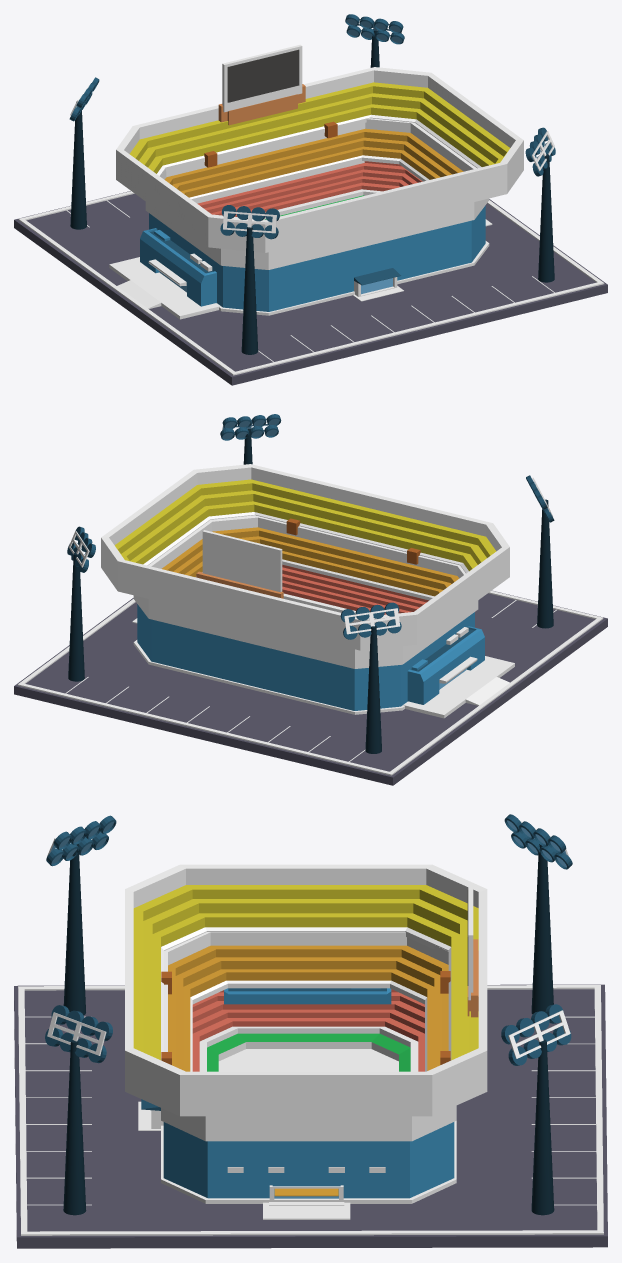
File: stadium.fbx
3 renders of one model, top to bottom at view 1: azimuth 30°, elevation 25°; view 2: azimuth 150°, elevation 25°; view 3: azimuth 270°, elevation 25°, orthographic. The views are drawn at different scales.
Parts seen in each view (by area): view 1: ground, floor_2, floor_0, floor_1, display, gate, light_0, light_3, light_1, light_2; view 2: ground, floor_2, floor_0, floor_1, display, gate, light_1, light_2, light_0, light_3; view 3: ground, floor_2, floor_0, floor_1, light_2, light_3, light_0, light_1, gate, display.
Part boxes in pixels (<box>): ground: <box>14,191,607,385</box>; floor_2: <box>116,67,523,252</box>; floor_0: <box>109,161,492,319</box>; floor_1: <box>145,118,489,269</box>; display: <box>222,44,302,125</box>; gate: <box>140,228,216,306</box>; light_0: <box>220,205,279,354</box>; light_3: <box>525,127,555,282</box>; light_1: <box>69,77,99,229</box>; light_2: <box>345,14,404,67</box>; ground: <box>14,590,607,785</box>; floor_2: <box>101,464,509,650</box>; floor_0: <box>132,564,514,718</box>; floor_1: <box>133,515,478,668</box>; display: <box>202,530,282,592</box>; gate: <box>407,626,484,704</box>; light_1: <box>340,602,401,753</box>; light_2: <box>67,526,95,681</box>; light_0: <box>526,475,554,628</box>; light_3: <box>220,414,281,464</box>; ground: <box>14,984,607,1248</box>; floor_2: <box>125,864,487,1116</box>; floor_0: <box>138,989,456,1219</box>; floor_1: <box>161,932,456,1141</box>; light_2: <box>501,1004,571,1215</box>; light_3: <box>45,1005,112,1215</box>; light_0: <box>46,815,116,1015</box>; light_1: <box>504,814,572,1014</box>; gate: <box>224,988,391,1004</box>; display: <box>467,883,478,1016</box>.
Bounding box in the file's own units: 15.33 × 6.2 × 15.23.
